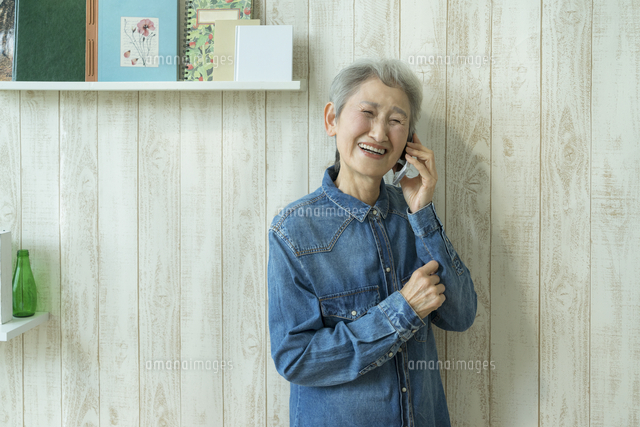phone: (392, 126, 440, 188)
talk: (346, 101, 444, 205)
